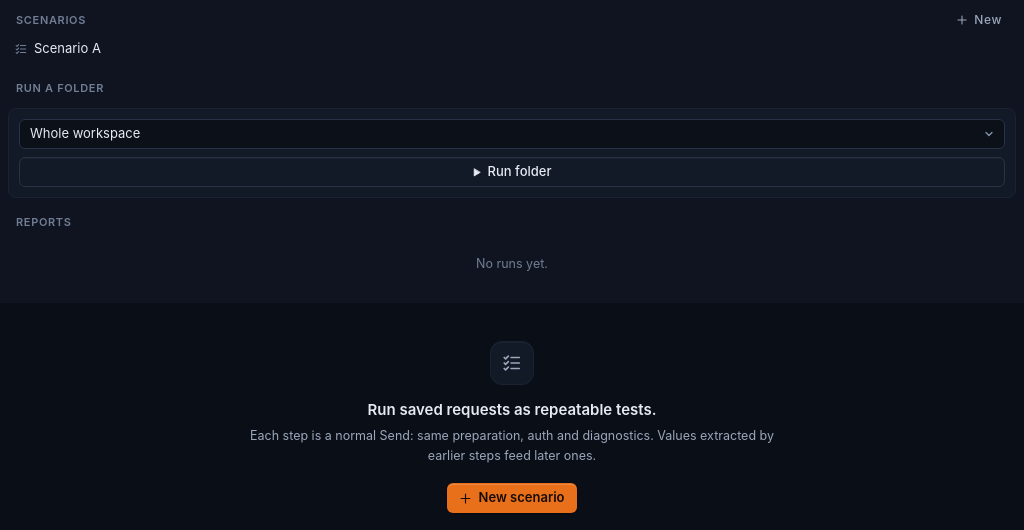
Test: starting a run › keeps the progress a run reported before its start answered
Expected: the text "Scenario A" is shown, x1=34 y1=40 x2=101 y2=56
Click the button "Run folder" at (512, 172), box x1=19 y1=157 x2=1005 y2=187
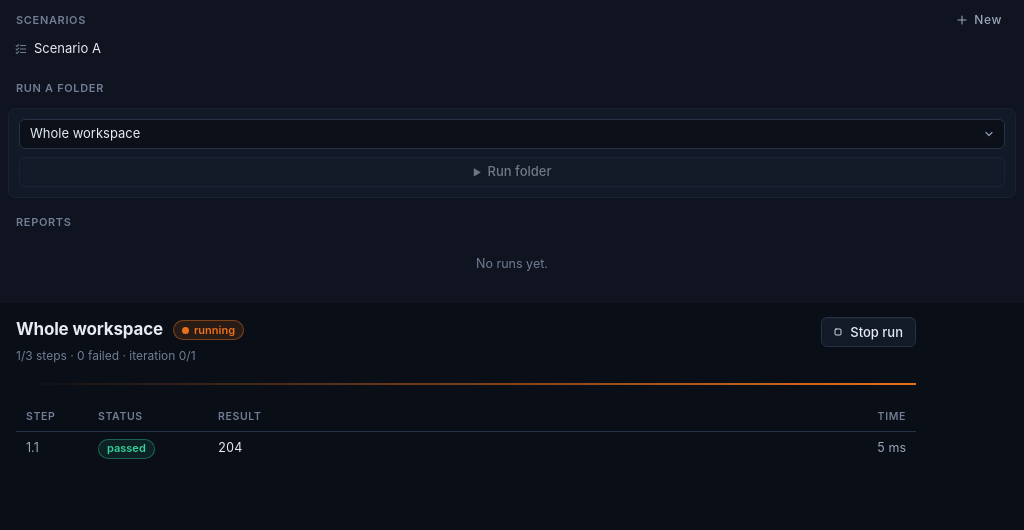
Now the text "1/3 steps · 0 failed · iteration 0/1" is shown, box x1=16 y1=348 x2=196 y2=363
Now the text "204" is shown, box x1=208 y1=431 x2=806 y2=466
